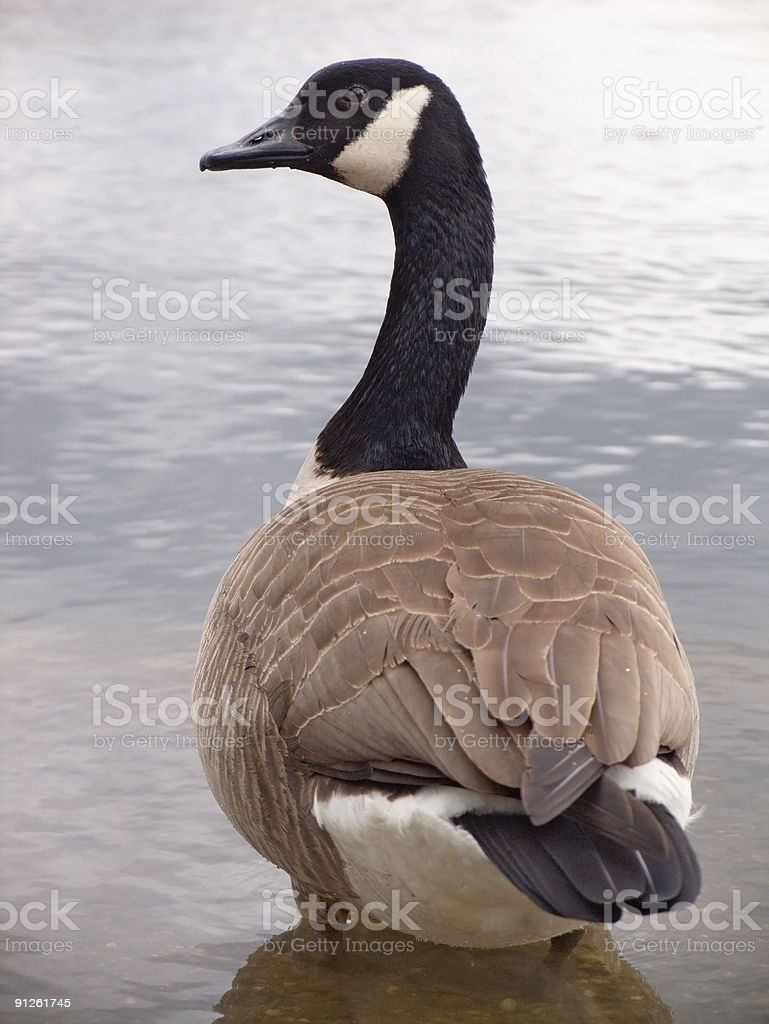goose: (171, 56, 715, 961)
